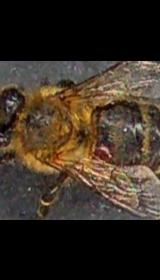varroa_mite: (84, 140, 116, 172)
